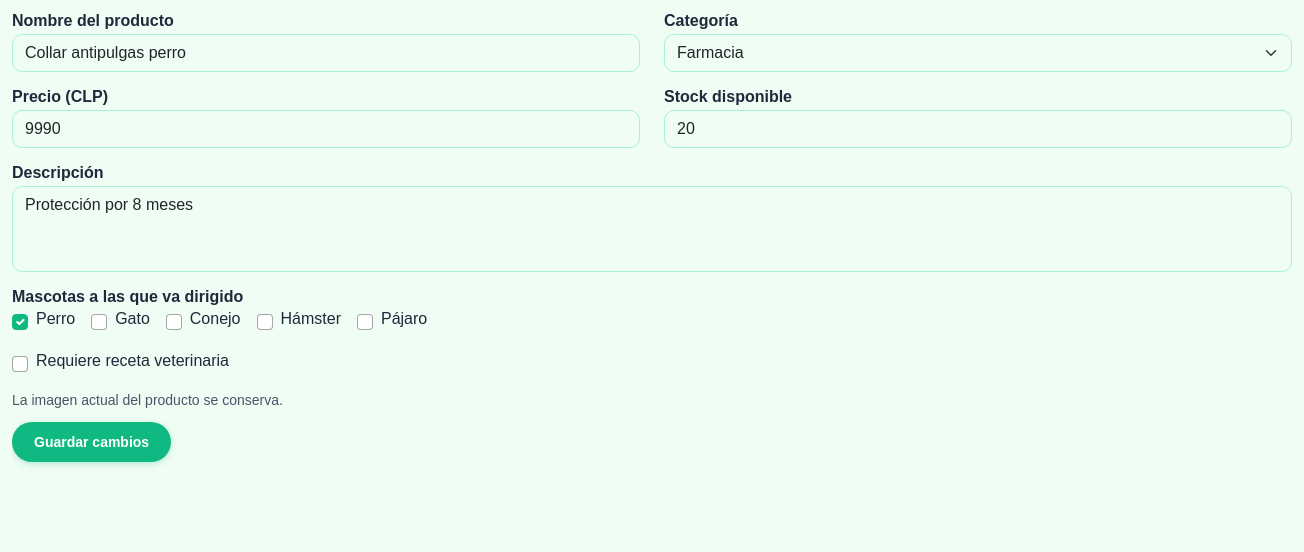
FormularioProducto (Panel de Control) › en modo edición carga los datos y guarda los cambios
The width and height of the screenshot is (1304, 552).
expect the field labelled "Nombre del producto" holds "Collar antipulgas perro": met, box [12,34,640,72]
Replace the text in the number field labelled "Precio (CLP)" with "10990": (326, 129) [12,110,640,148]
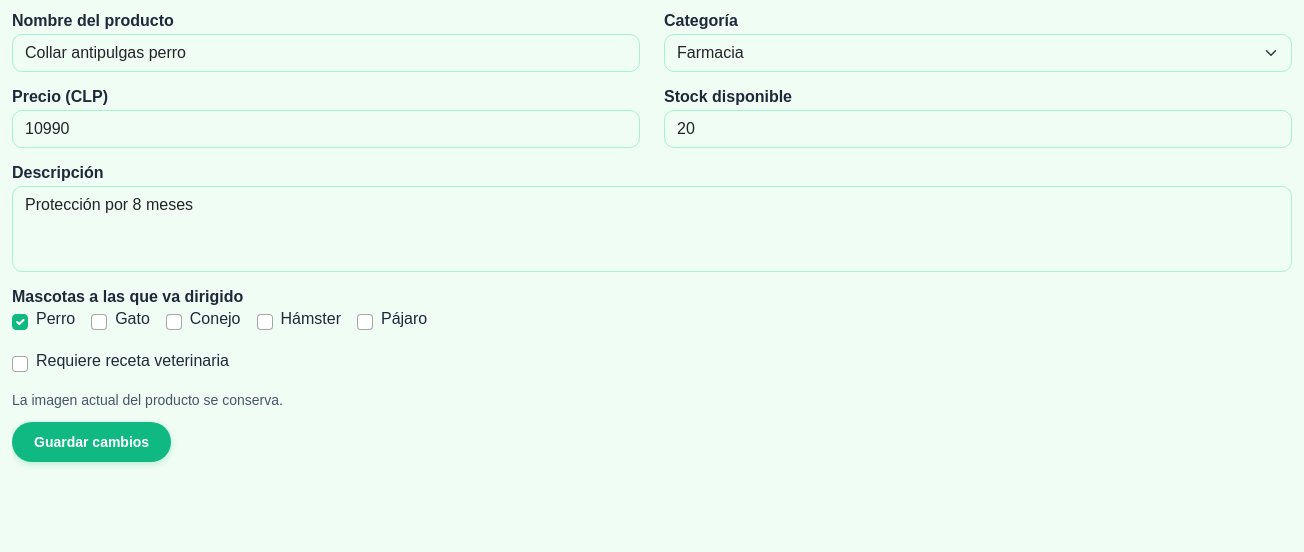
Click the button "Guardar cambios": (92, 442) [12,422,171,462]
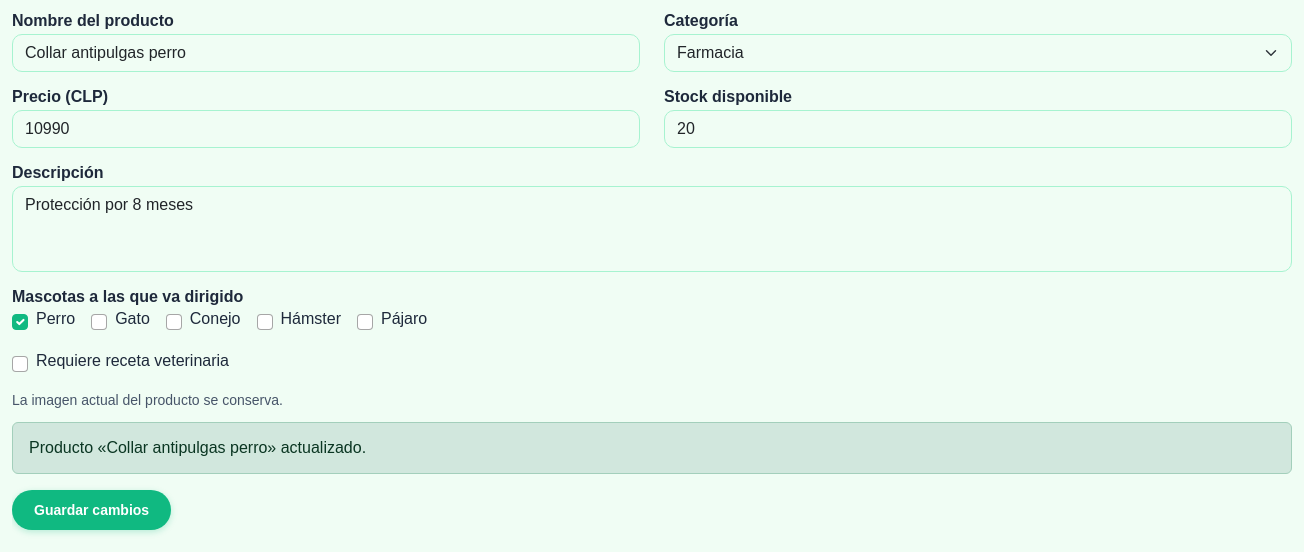
expect the message shows "actualizado": met, box [29,439,366,456]
